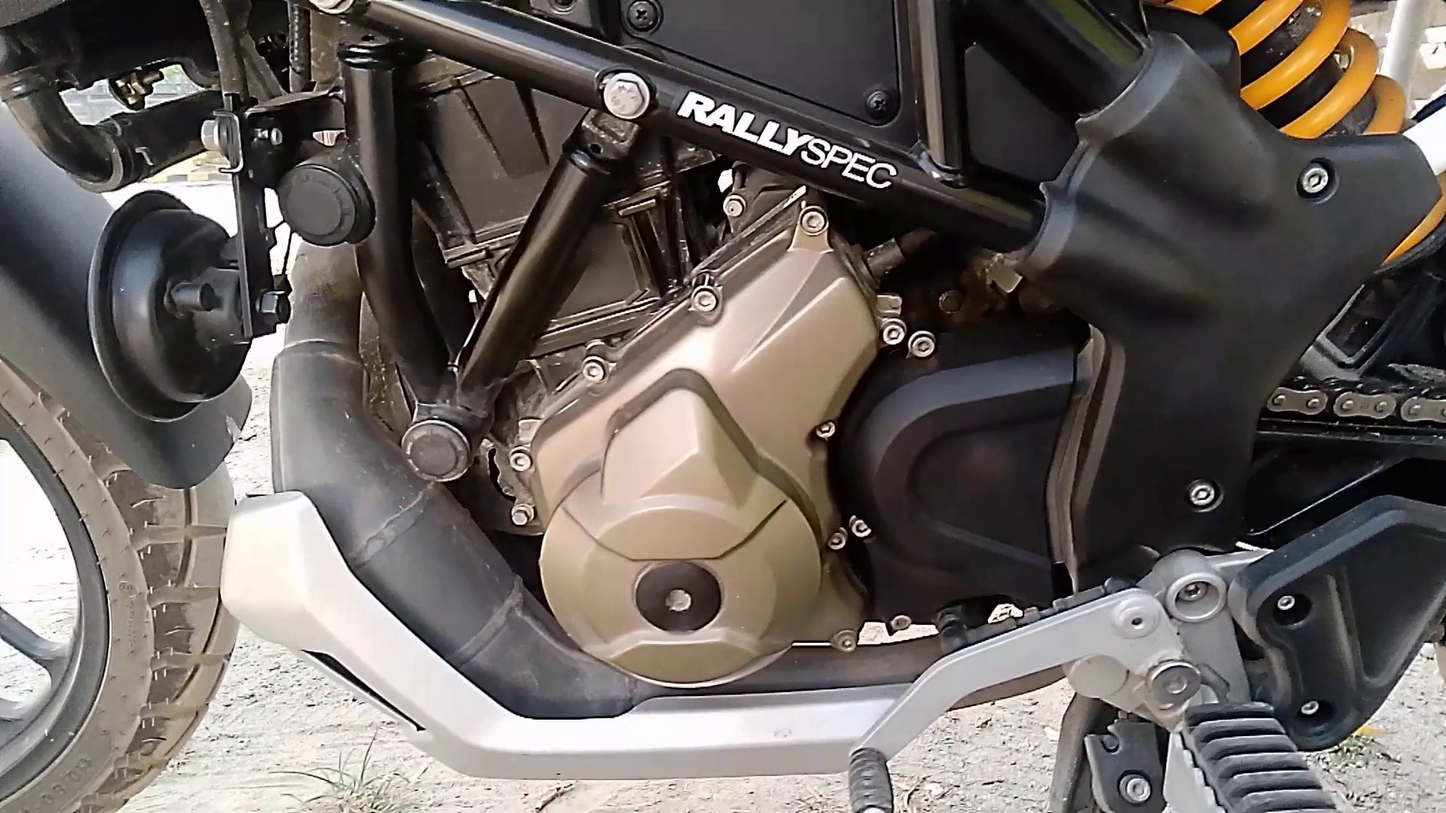engine: (488, 167, 943, 702)
